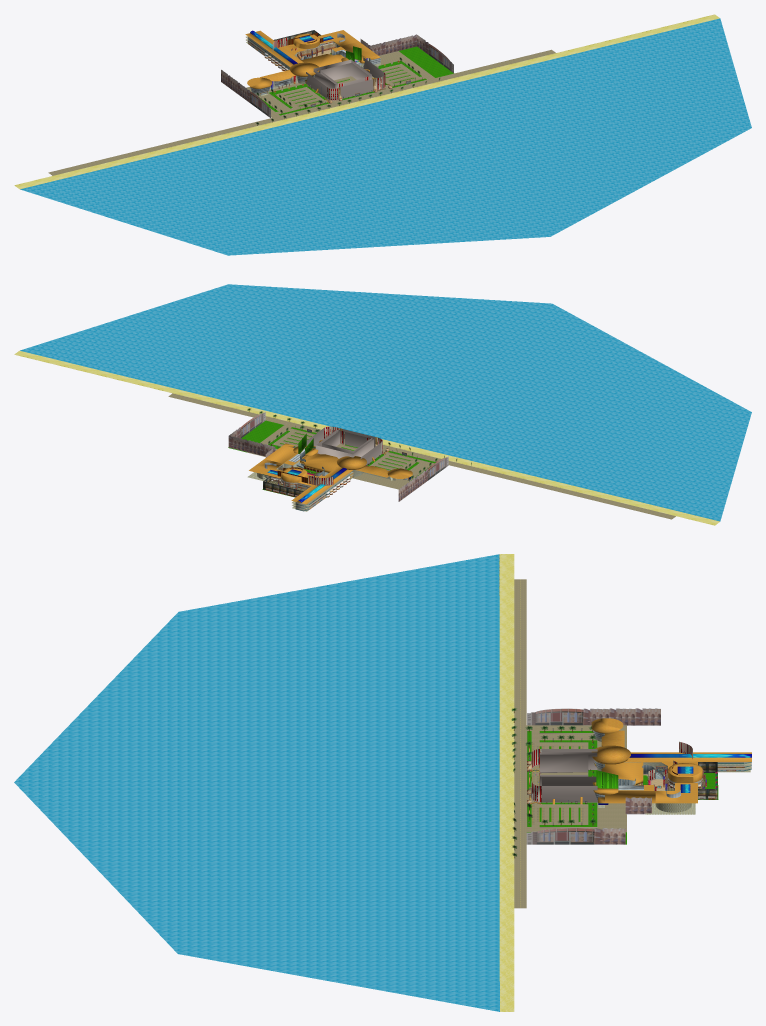
Rendered from CoconutMall_hitboxes.glb.
3 views of the same model, one above another, from view 1: azimuth 30°, elevation 25°; view 2: azimuth 150°, elevation 25°; view 3: azimuth 270°, elevation 25° (orthographic). The views are drawn at different scales.
Visible parts, largest first — view 1: polygon374, polygon16, polygon0b, polygon2, polygon5, polygon15, polygon25; view 2: polygon374, polygon16, polygon0b, polygon2, polygon5, polygon15, polygon412, polygon315; view 3: polygon374, polygon16, polygon0b, polygon2, polygon5, polygon15, polygon25.
Boxes of the visible parts, x1,y1,x2,y2 form: polygon374: (20, 18, 751, 255); polygon16: (14, 14, 719, 189); polygon0b: (48, 49, 555, 175); polygon2: (245, 30, 389, 102); polygon5: (221, 32, 453, 117); polygon15: (259, 46, 453, 115); polygon25: (256, 45, 440, 125); polygon374: (20, 284, 751, 521); polygon16: (14, 350, 719, 525); polygon0b: (168, 393, 675, 519); polygon2: (249, 440, 412, 504); polygon5: (228, 412, 448, 501); polygon15: (228, 420, 435, 497); polygon412: (262, 472, 353, 511); polygon315: (266, 453, 350, 509); polygon374: (14, 554, 660, 1011); polygon16: (499, 554, 717, 1011); polygon0b: (514, 579, 660, 908); polygon2: (530, 718, 751, 804); polygon5: (526, 708, 680, 844); polygon15: (527, 731, 718, 844); polygon25: (511, 708, 665, 858).
Bounding box in the file's own units: 4781 × 177 × 3256.
25 materials, 25 textured.
